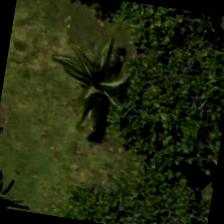Kelapa_Sawit: (45, 23, 148, 126)
